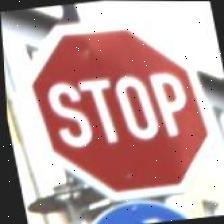Stop: (8, 9, 224, 216)
